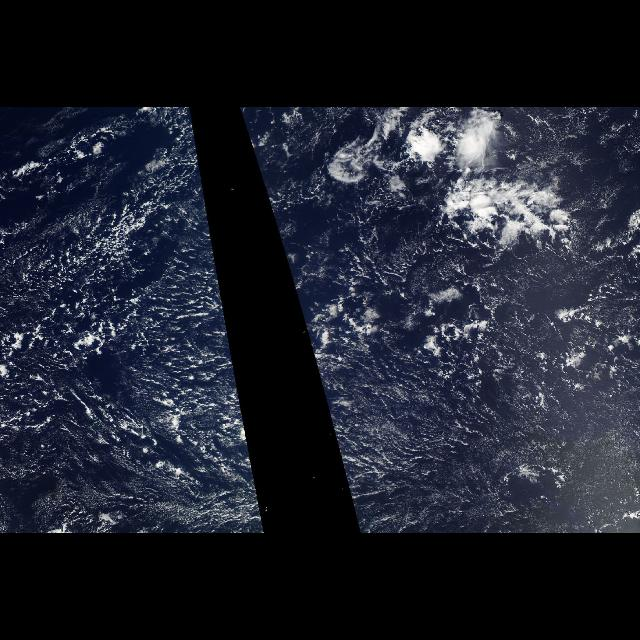Fish: (416, 178, 596, 262)
Gravel: (4, 156, 216, 487)
Sugar: (323, 264, 637, 522)
